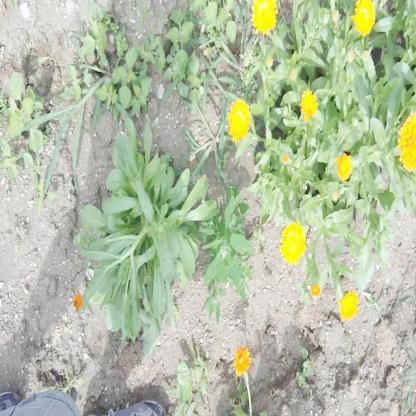marigold: (280, 221, 306, 266), (229, 97, 251, 139), (252, 0, 275, 35), (399, 121, 415, 168), (354, 0, 374, 35), (299, 87, 319, 119), (233, 345, 251, 373), (340, 292, 357, 320)
